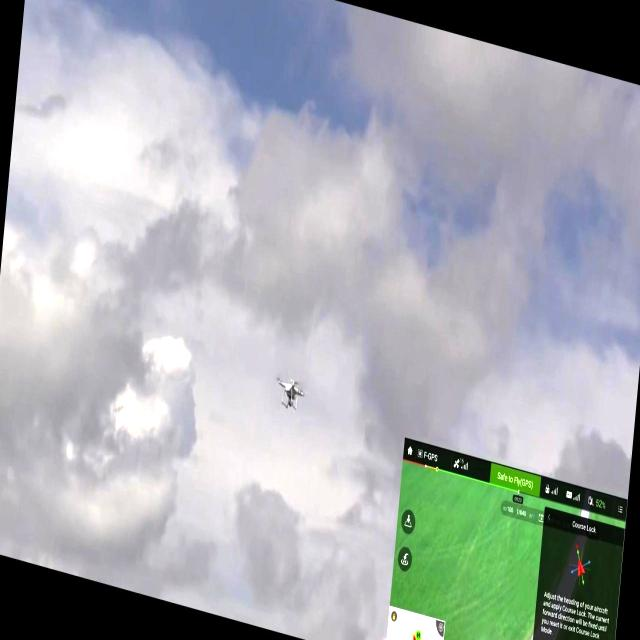drone: (273, 367, 307, 420)
